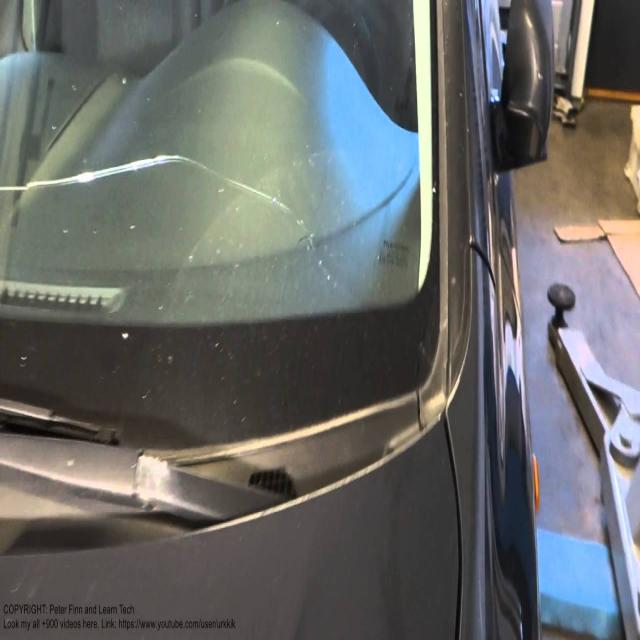crack: (0, 150, 315, 254)
